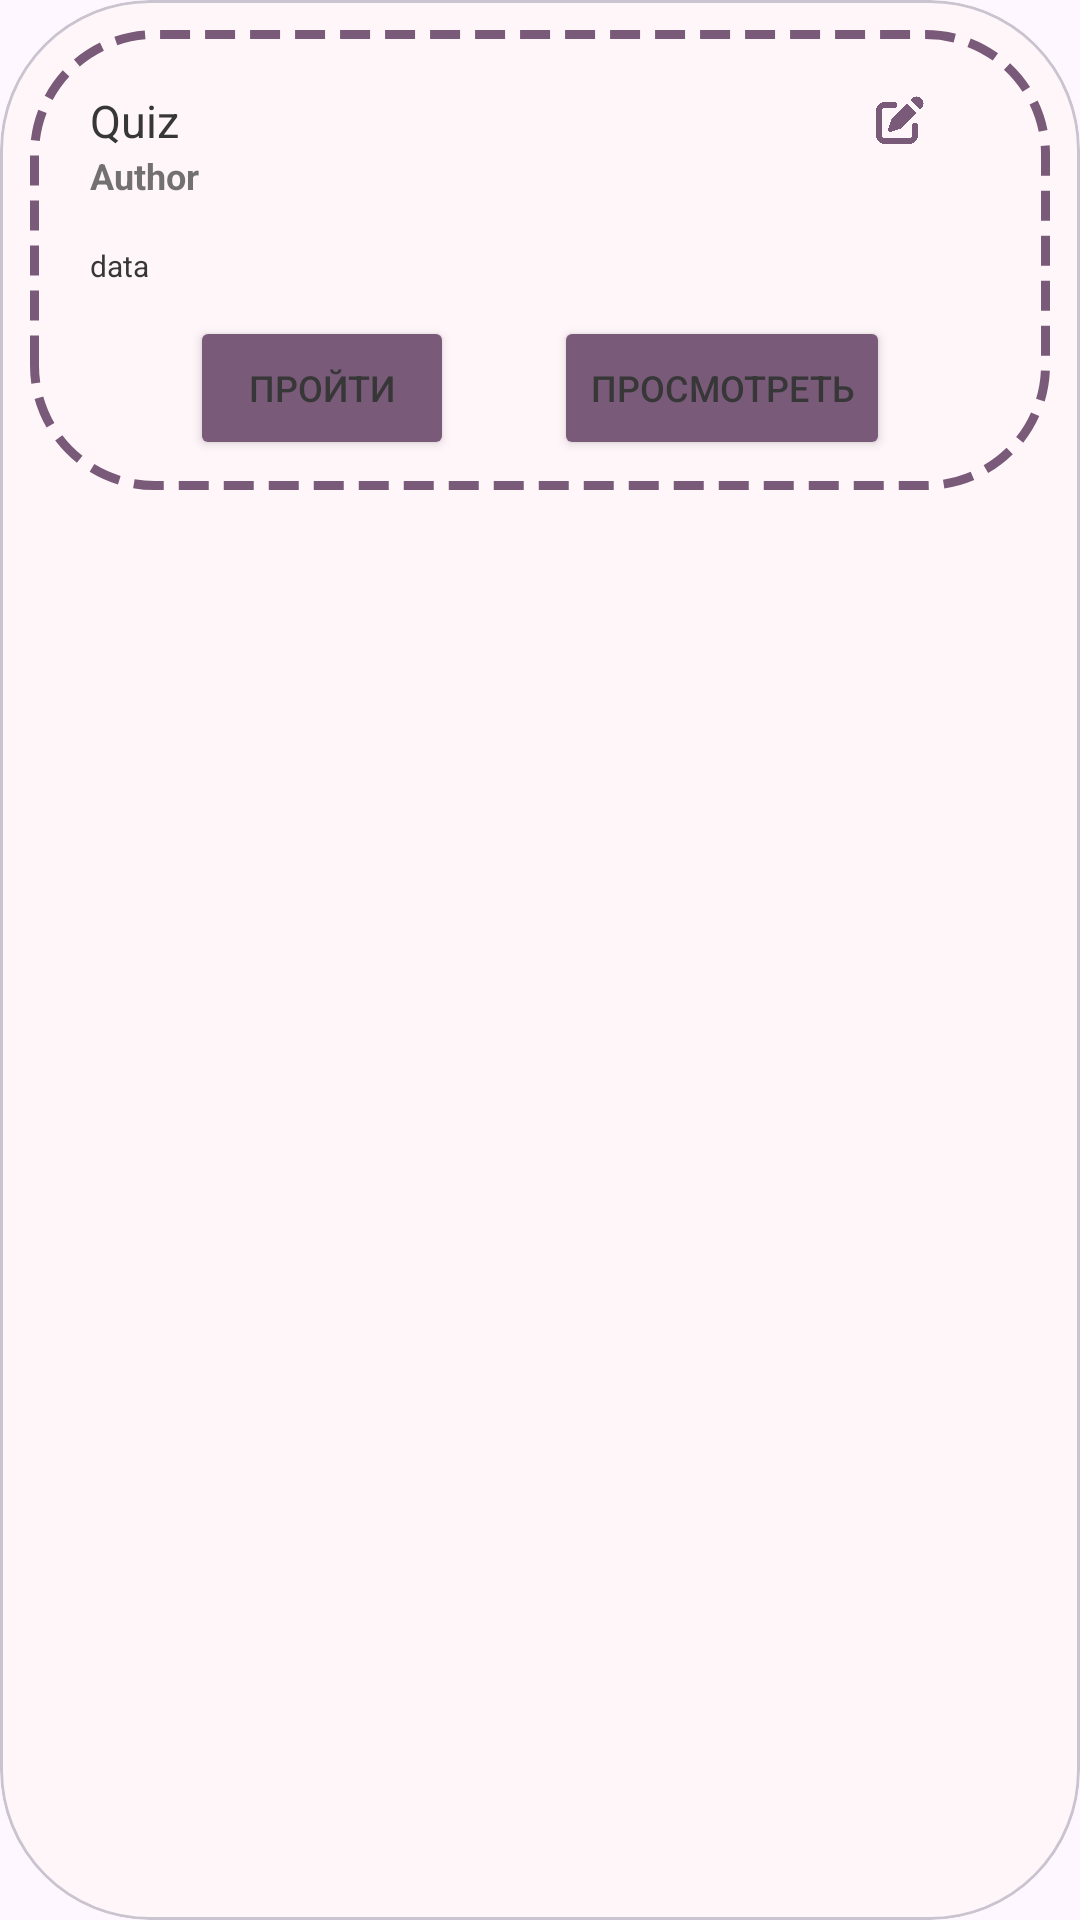

Where icons sit on this 1080px×1920px app screen, as BBox(x1, y1, x2, y2):
pen to square full: BBox(876, 96, 924, 144)
